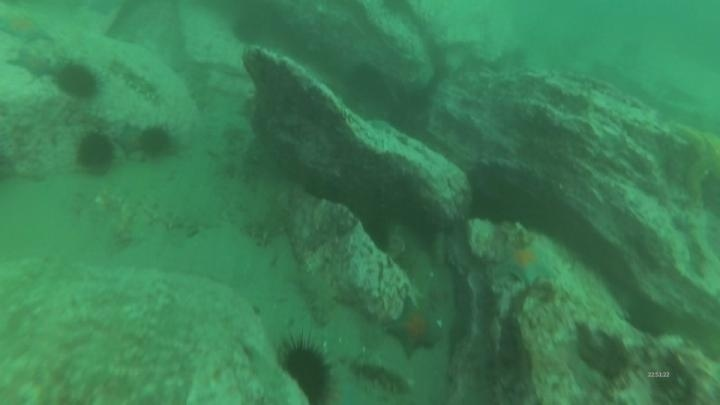echinus: (275, 335, 337, 405), (229, 3, 288, 49), (342, 61, 389, 107), (73, 129, 118, 177), (53, 60, 102, 102), (135, 123, 177, 160)
holothurian: (238, 183, 296, 245), (296, 267, 339, 329), (107, 56, 163, 103), (349, 356, 414, 396)
starfish: (383, 298, 443, 360), (497, 240, 557, 288), (0, 11, 56, 46), (8, 48, 55, 81), (114, 121, 147, 159)
